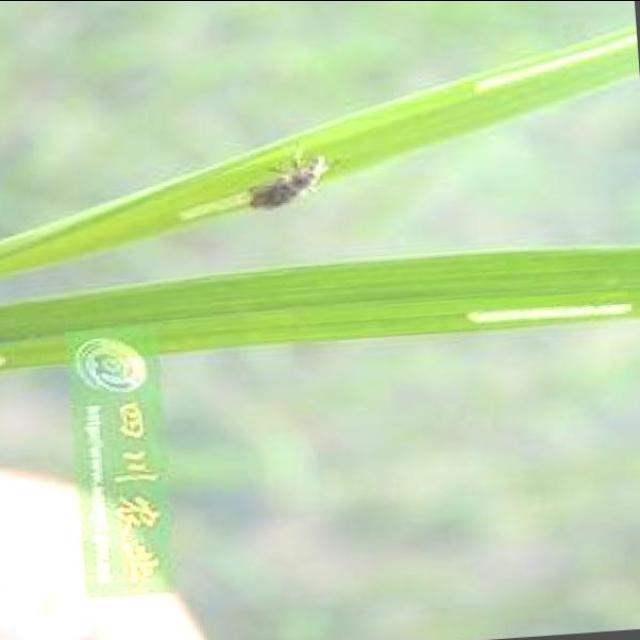ricebug: (250, 155, 329, 207)
